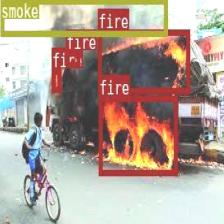fire: (98, 95, 176, 175), (97, 29, 188, 92), (65, 48, 80, 66), (52, 68, 60, 91)
smoke: (0, 0, 168, 35)
